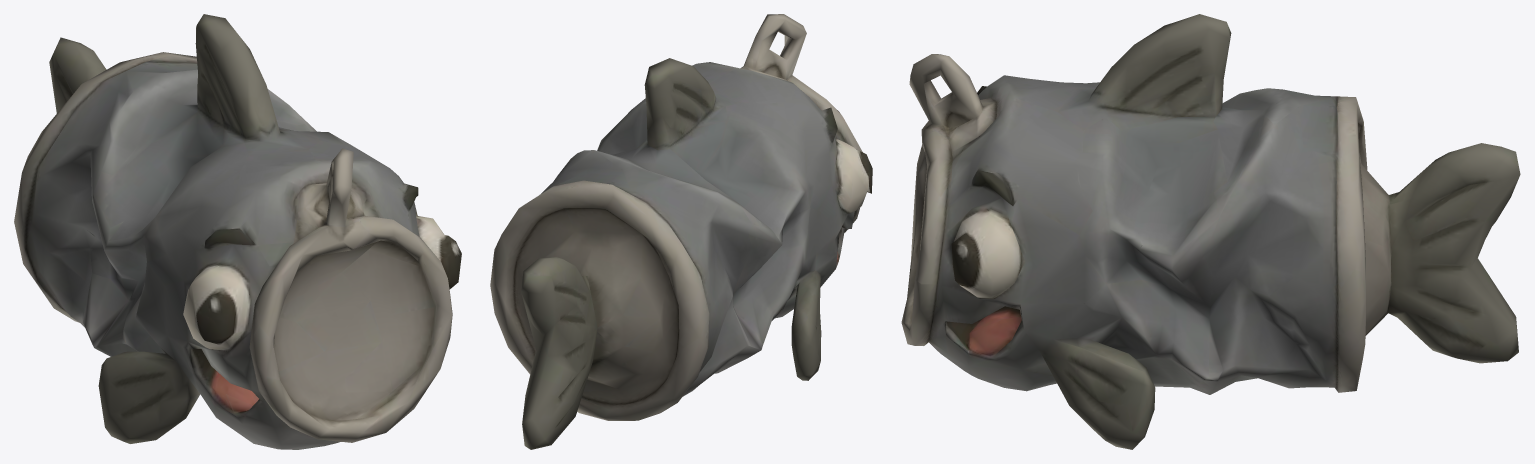
Rendered from fish-can.glb.
3 views of the same model, side by side, from view 1: azimuth 30°, elevation 25°; view 2: azimuth 150°, elevation 25°; view 3: azimuth 270°, elevation 25° (orthographic). The views are drawn at different scales.
Parts seen in each view (by area): view 1: tripo_node_ae827971-8530-4d72-abd1-875988c939ad; view 2: tripo_node_ae827971-8530-4d72-abd1-875988c939ad; view 3: tripo_node_ae827971-8530-4d72-abd1-875988c939ad.
Part boxes in pixels (x1,y1,x2,y2): tripo_node_ae827971-8530-4d72-abd1-875988c939ad: (14,14,461,449); tripo_node_ae827971-8530-4d72-abd1-875988c939ad: (490,14,872,449); tripo_node_ae827971-8530-4d72-abd1-875988c939ad: (901,14,1520,449).
Bounding box in the file's own units: 0.5434 × 0.655 × 1.
Materials: 1 (1 with a texture image).
